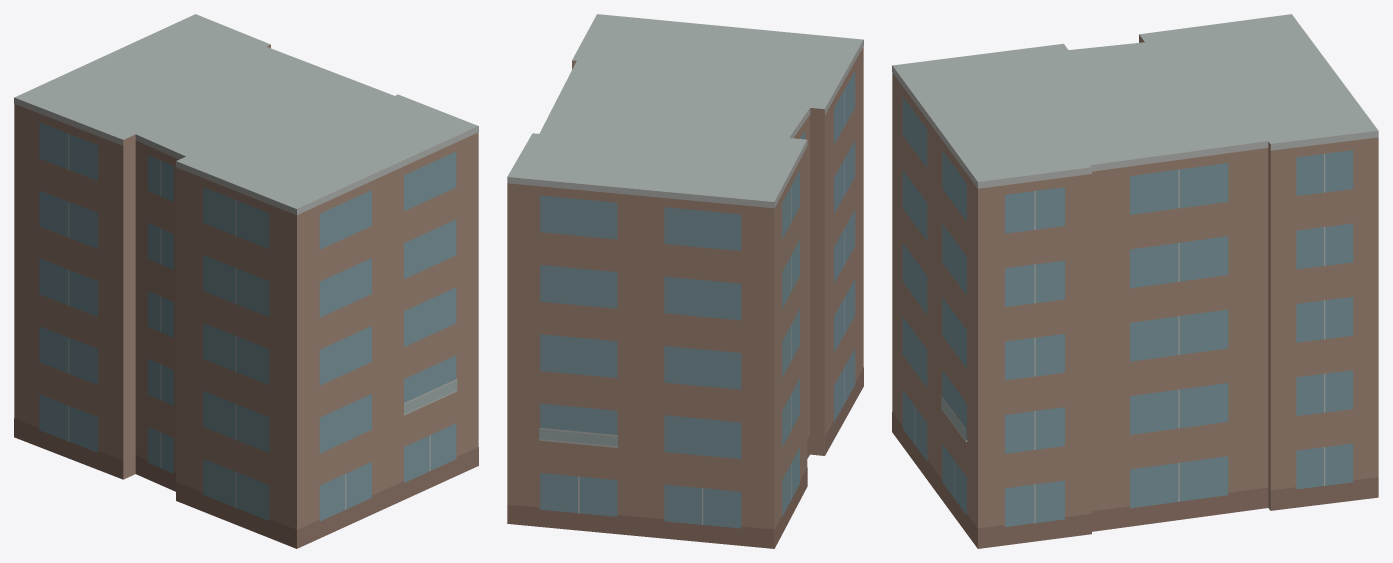
Rendered from survey-upis-33042960.glb.
3 views of the same model, side by side, from view 1: azimuth 30°, elevation 25°; view 2: azimuth 150°, elevation 25°; view 3: azimuth 270°, elevation 25° (orthographic). The views are drawn at different scales.
Visible parts, largest first — view 1: survey-upis-33042960.tmp; view 2: survey-upis-33042960.tmp; view 3: survey-upis-33042960.tmp.
Boxes of the visible parts, <box> form: survey-upis-33042960.tmp: <box>14,14,478,548</box>; survey-upis-33042960.tmp: <box>507,14,863,548</box>; survey-upis-33042960.tmp: <box>892,14,1378,548</box>.
Bounding box in the file's own units: 13.28 × 13.5 × 16.24.
